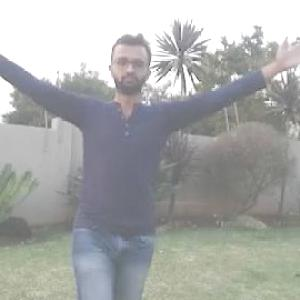takeoff: (0, 27, 296, 299)
